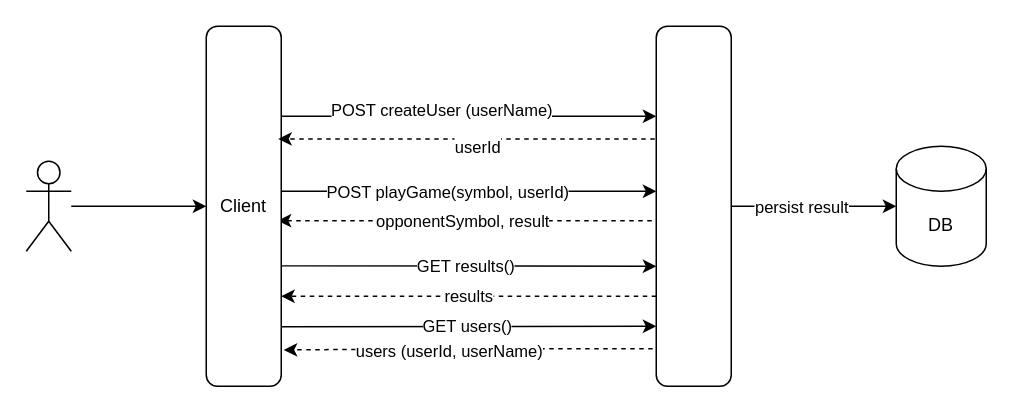
The diagram is 1013 pixels wide and 413 high, and some of its shapes have lost their labels. The shapes that lost their labels are listed below. From the top down, each one's box as (x1, y1, x2, y2) in pixels, then its label:
(25, 160, 71, 251): User
(655, 25, 731, 386): Server
